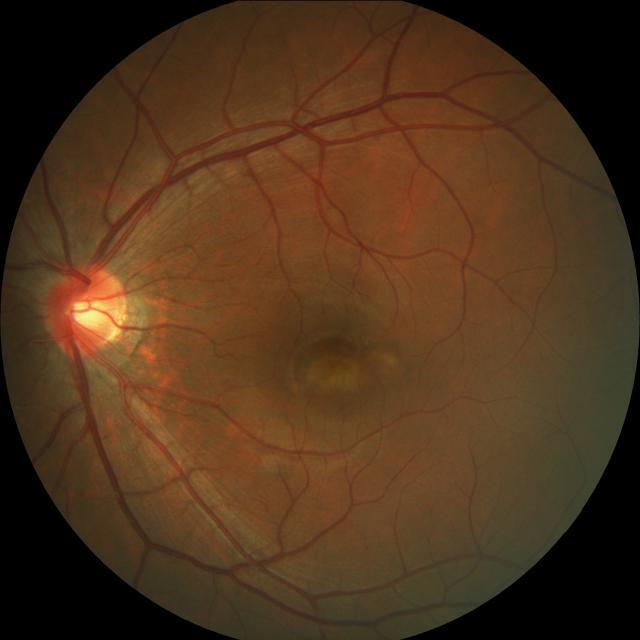OC: (72, 298, 108, 328)
OD: (44, 265, 126, 354)
